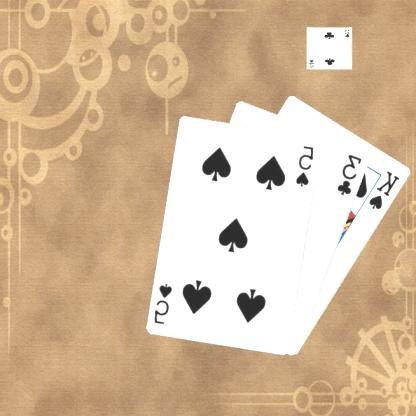3C: (336, 150, 366, 197)
5S: (295, 142, 318, 188), (153, 280, 176, 325)
KS: (368, 168, 403, 211)
